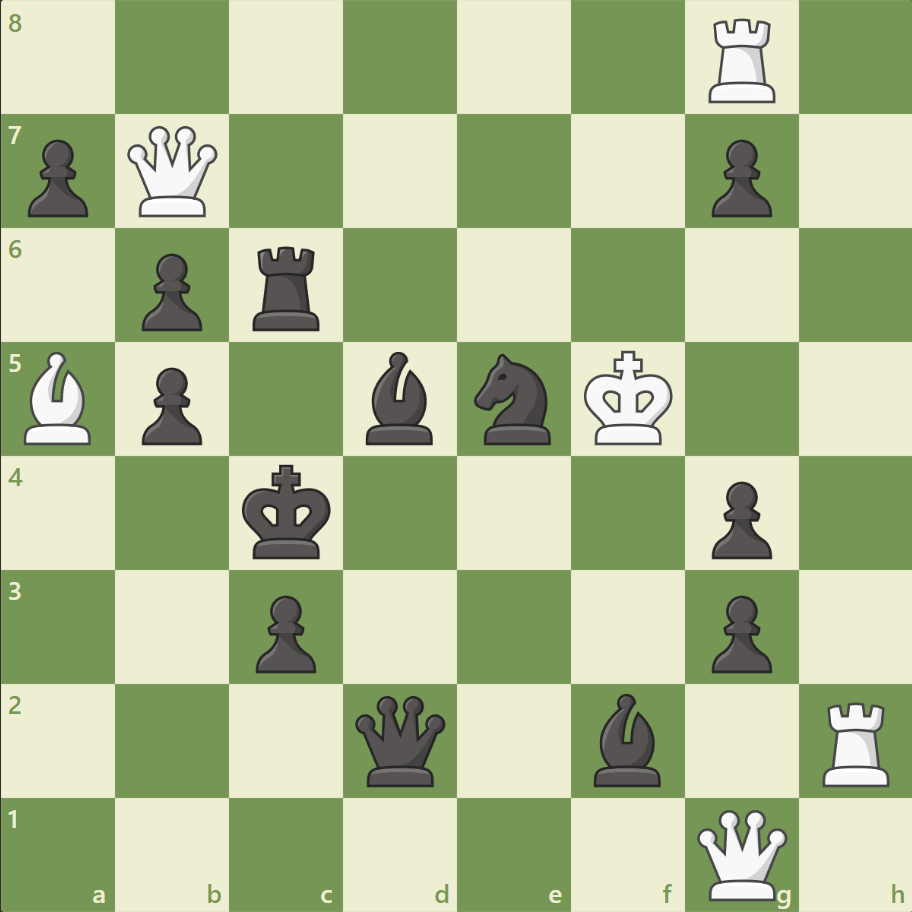B: (17, 347, 101, 449)
K: (579, 344, 679, 452)
Q: (124, 122, 223, 222), (691, 804, 790, 903)
R: (700, 12, 783, 109), (814, 693, 897, 790)
b: (585, 687, 669, 790), (358, 347, 442, 449)
k: (238, 458, 338, 566)
n: (465, 348, 562, 450)
p: (20, 132, 95, 223), (701, 132, 776, 223), (133, 246, 208, 337), (133, 359, 208, 450), (701, 473, 776, 564), (247, 586, 322, 677), (701, 586, 776, 677)
q: (351, 690, 450, 789)
r: (246, 239, 329, 336)
